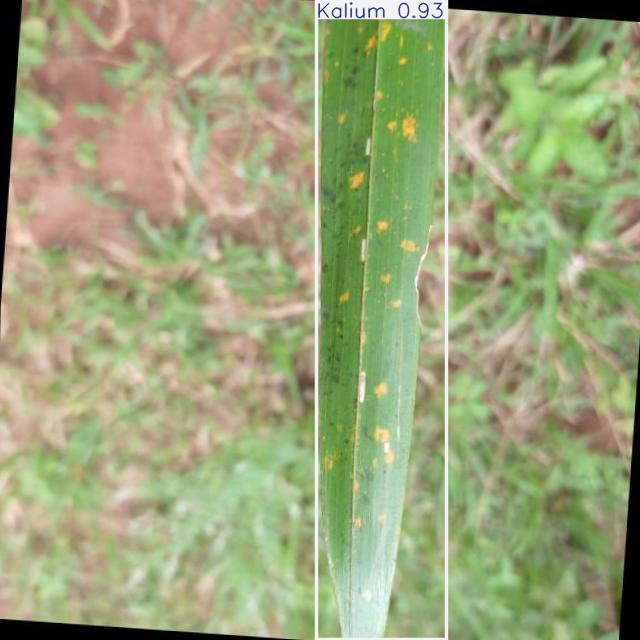Kalium: (316, 1, 447, 640)
